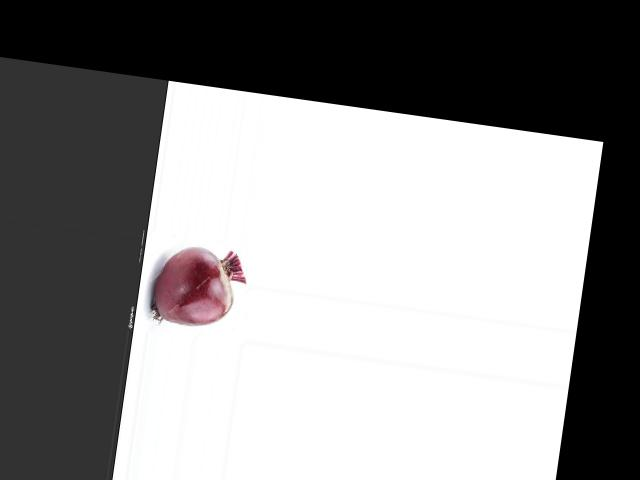beet: (150, 241, 249, 332)
